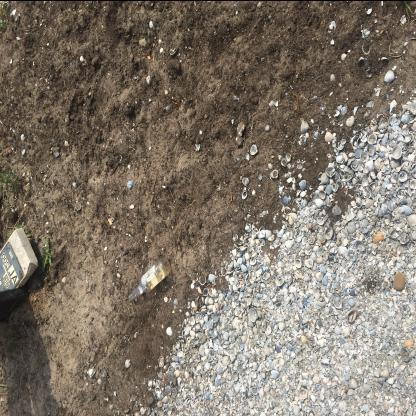cam: (129, 259, 172, 301)
